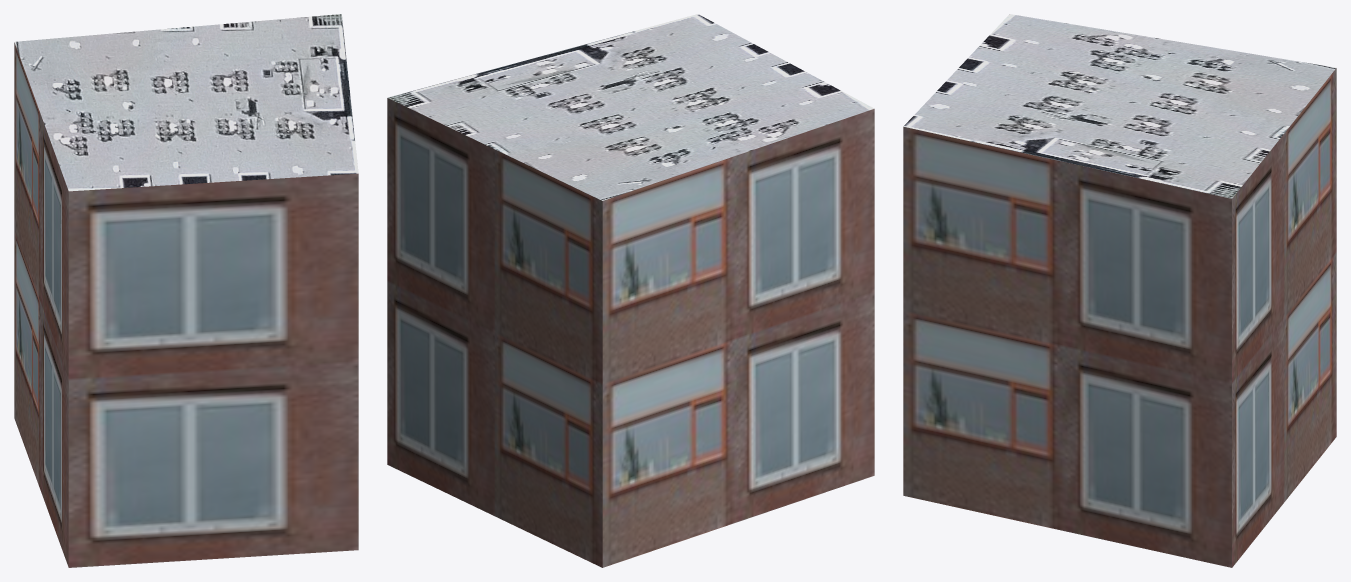
File: ResTex__2477.fbx
3 views of the same model, side by side, from view 1: azimuth 30°, elevation 25°; view 2: azimuth 150°, elevation 25°; view 3: azimuth 270°, elevation 25° (orthographic). The views are drawn at different scales.
Parts seen in each view (by area): view 1: CityEngineMaterial_19_m, CityEngineMaterial_15_m; view 2: CityEngineMaterial_19_m, CityEngineMaterial_15_m; view 3: CityEngineMaterial_19_m, CityEngineMaterial_15_m.
Part boxes in pixels (x1=…): CityEngineMaterial_19_m: x1=14, y1=42, x2=358, y2=567; CityEngineMaterial_15_m: x1=14, y1=14, x2=358, y2=191; CityEngineMaterial_19_m: x1=387, y1=98, x2=874, y2=567; CityEngineMaterial_15_m: x1=387, y1=14, x2=874, y2=200; CityEngineMaterial_19_m: x1=903, y1=68, x2=1336, y2=567; CityEngineMaterial_15_m: x1=903, y1=14, x2=1336, y2=198.
Bounding box in the file's own units: 6.45 × 6 × 6.39.
2 materials, 2 textured.
